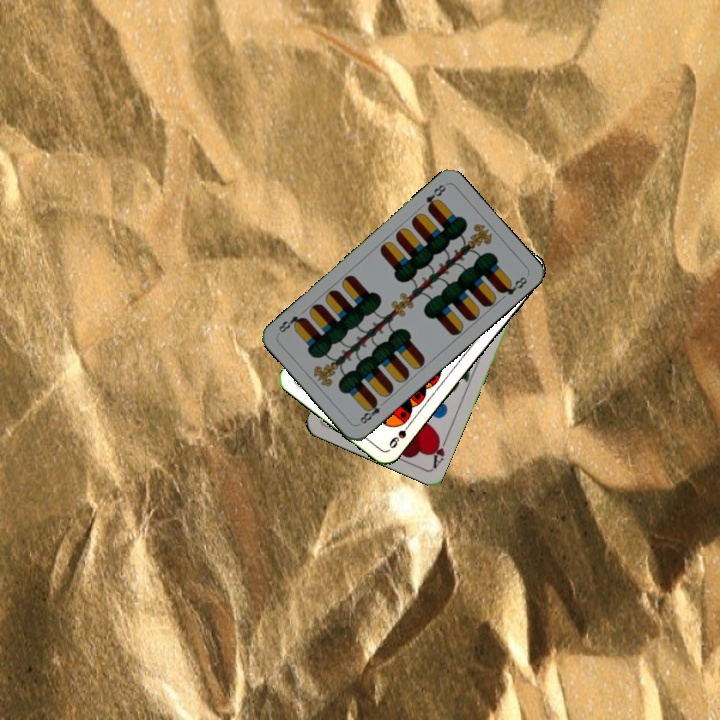E8: (356, 396, 389, 426), (421, 180, 448, 213)
HA: (427, 431, 451, 471)
S9: (385, 417, 415, 451)
